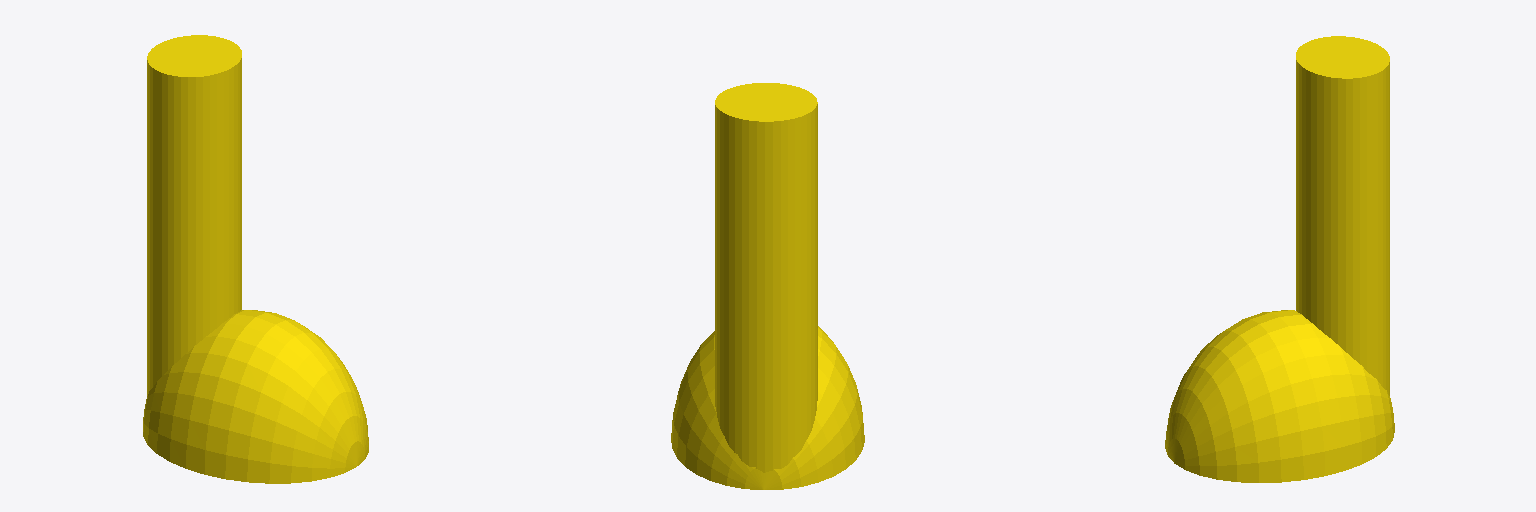
The picture shows the model from 3 angles: view 1: azimuth 30°, elevation 25°; view 2: azimuth 150°, elevation 25°; view 3: azimuth 270°, elevation 25°; orthographic projection.
Visible parts, largest first — view 1: pata_i; view 2: pata_i; view 3: pata_i.
Boxes of the visible parts, box(x1,y1,x2,y2) form: pata_i: box(143, 35, 368, 483); pata_i: box(671, 83, 864, 489); pata_i: box(1165, 36, 1394, 482).
Size of the model in its own units: 1.91 by 3.78 by 2.14.
Materials: 1 (1 with a texture image).